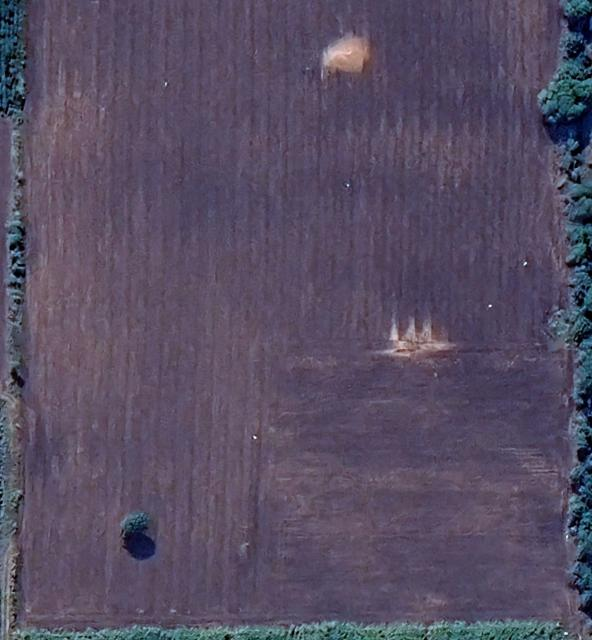Farms: (23, 1, 569, 623)
